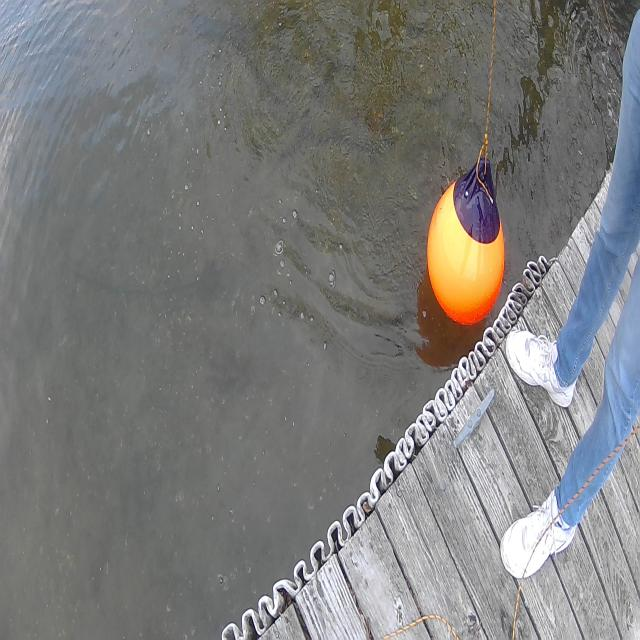Buoy: (420, 136, 515, 346)
